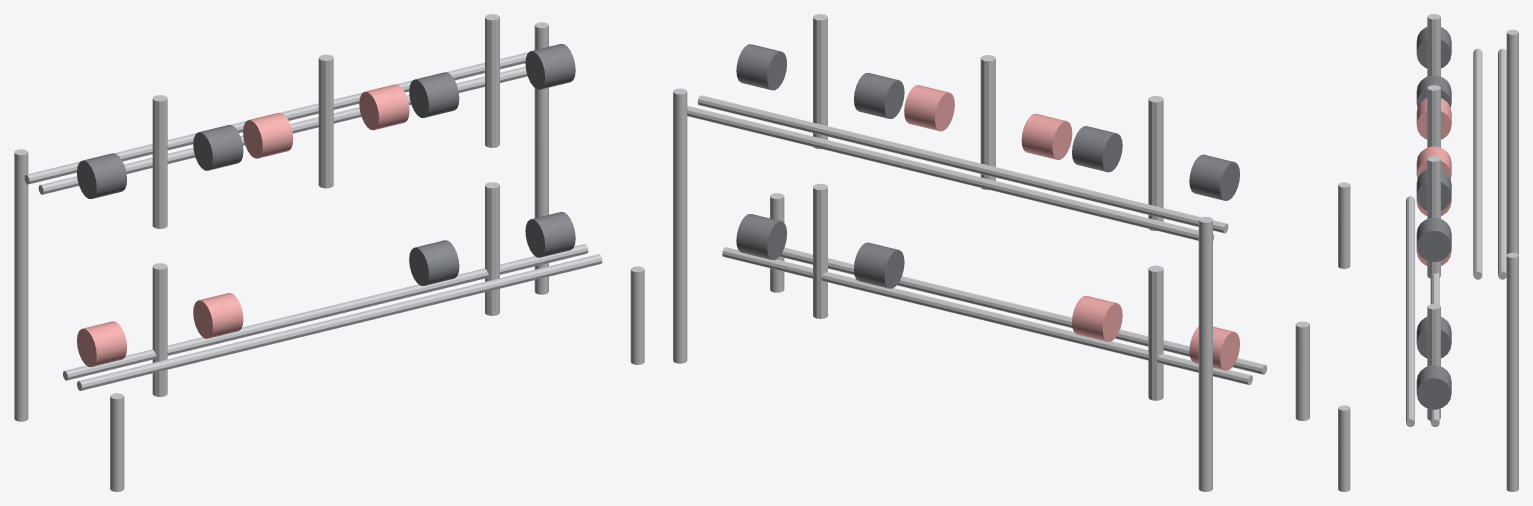
The model's file is dumbbell_rack.glb.
The picture shows the model from 3 angles, left to right: view 1: azimuth 30°, elevation 25°; view 2: azimuth 150°, elevation 25°; view 3: azimuth 270°, elevation 25°; orthographic projection. The views are drawn at different scales.
Visible parts, largest first — view 1: drr_frame, db_1, db_0, db_2, db_3, db_4; view 2: drr_frame, db_4, db_0, db_1, db_2, db_3; view 3: drr_frame, db_2, db_4, db_0, db_1, db_3.
Boxes of the visible parts, x1,y1,x2,y2 form: drr_frame: (14, 22, 644, 491); db_1: (243, 54, 409, 188); db_0: (77, 95, 243, 228); db_2: (409, 14, 575, 147); db_3: (77, 263, 243, 396); db_4: (409, 182, 575, 315); drr_frame: (673, 88, 1309, 491); db_4: (736, 183, 904, 318); db_0: (1072, 96, 1239, 230); db_1: (904, 55, 1072, 189); db_2: (736, 14, 904, 149); db_3: (1072, 265, 1239, 400); drr_frame: (1338, 29, 1518, 491); db_2: (1416, 156, 1451, 273); db_4: (1416, 304, 1451, 420); db_0: (1416, 14, 1451, 107); db_1: (1416, 85, 1451, 178); db_3: (1416, 197, 1451, 278).
Size of the model in its own units: 0.962 by 0.57 by 0.322.
